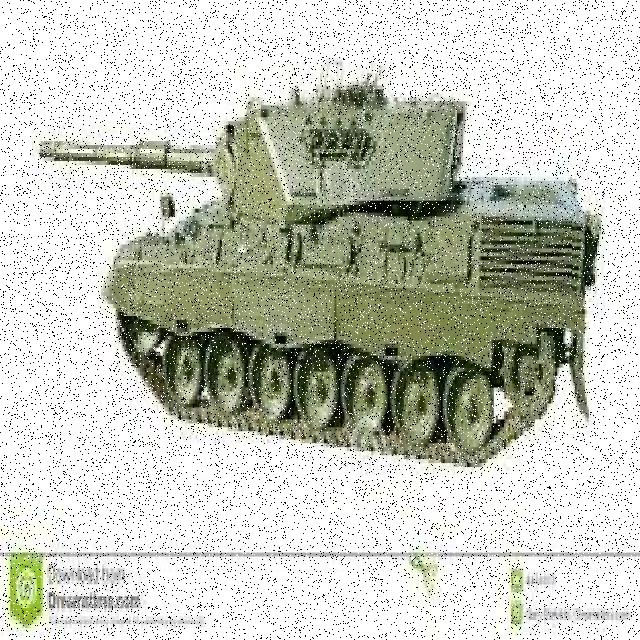MIL_MBT: (16, 4, 572, 523)
